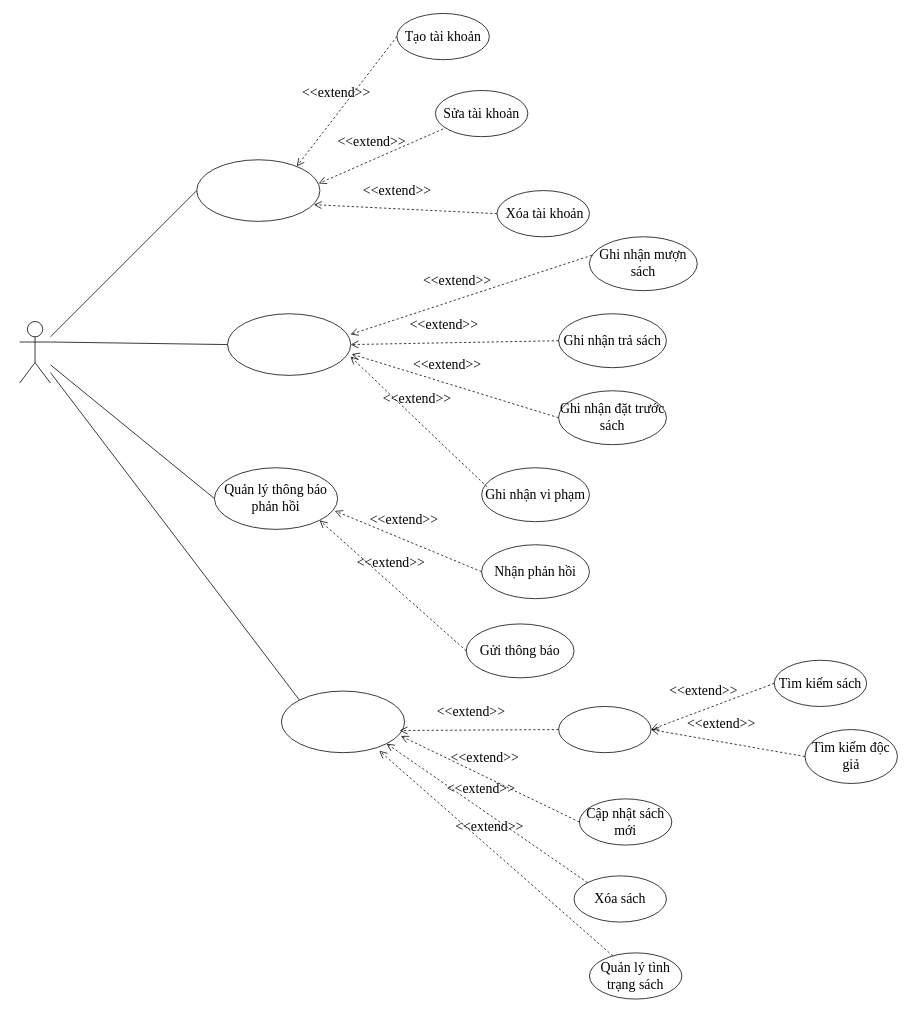
Image size: 911x1013. Some labels were removed from this diagram. Here are the shapes that lost their labels. From the top down, the box of each, then its label:
(196, 159, 320, 221): Quản lý tài khoản
(19, 321, 50, 383): Thủ thư
(227, 313, 351, 375): Quản lý mượn - trả - đặt trước
(281, 690, 405, 753): Quản lý sách và tài liệu
(558, 706, 651, 753): Tìm kiếm
